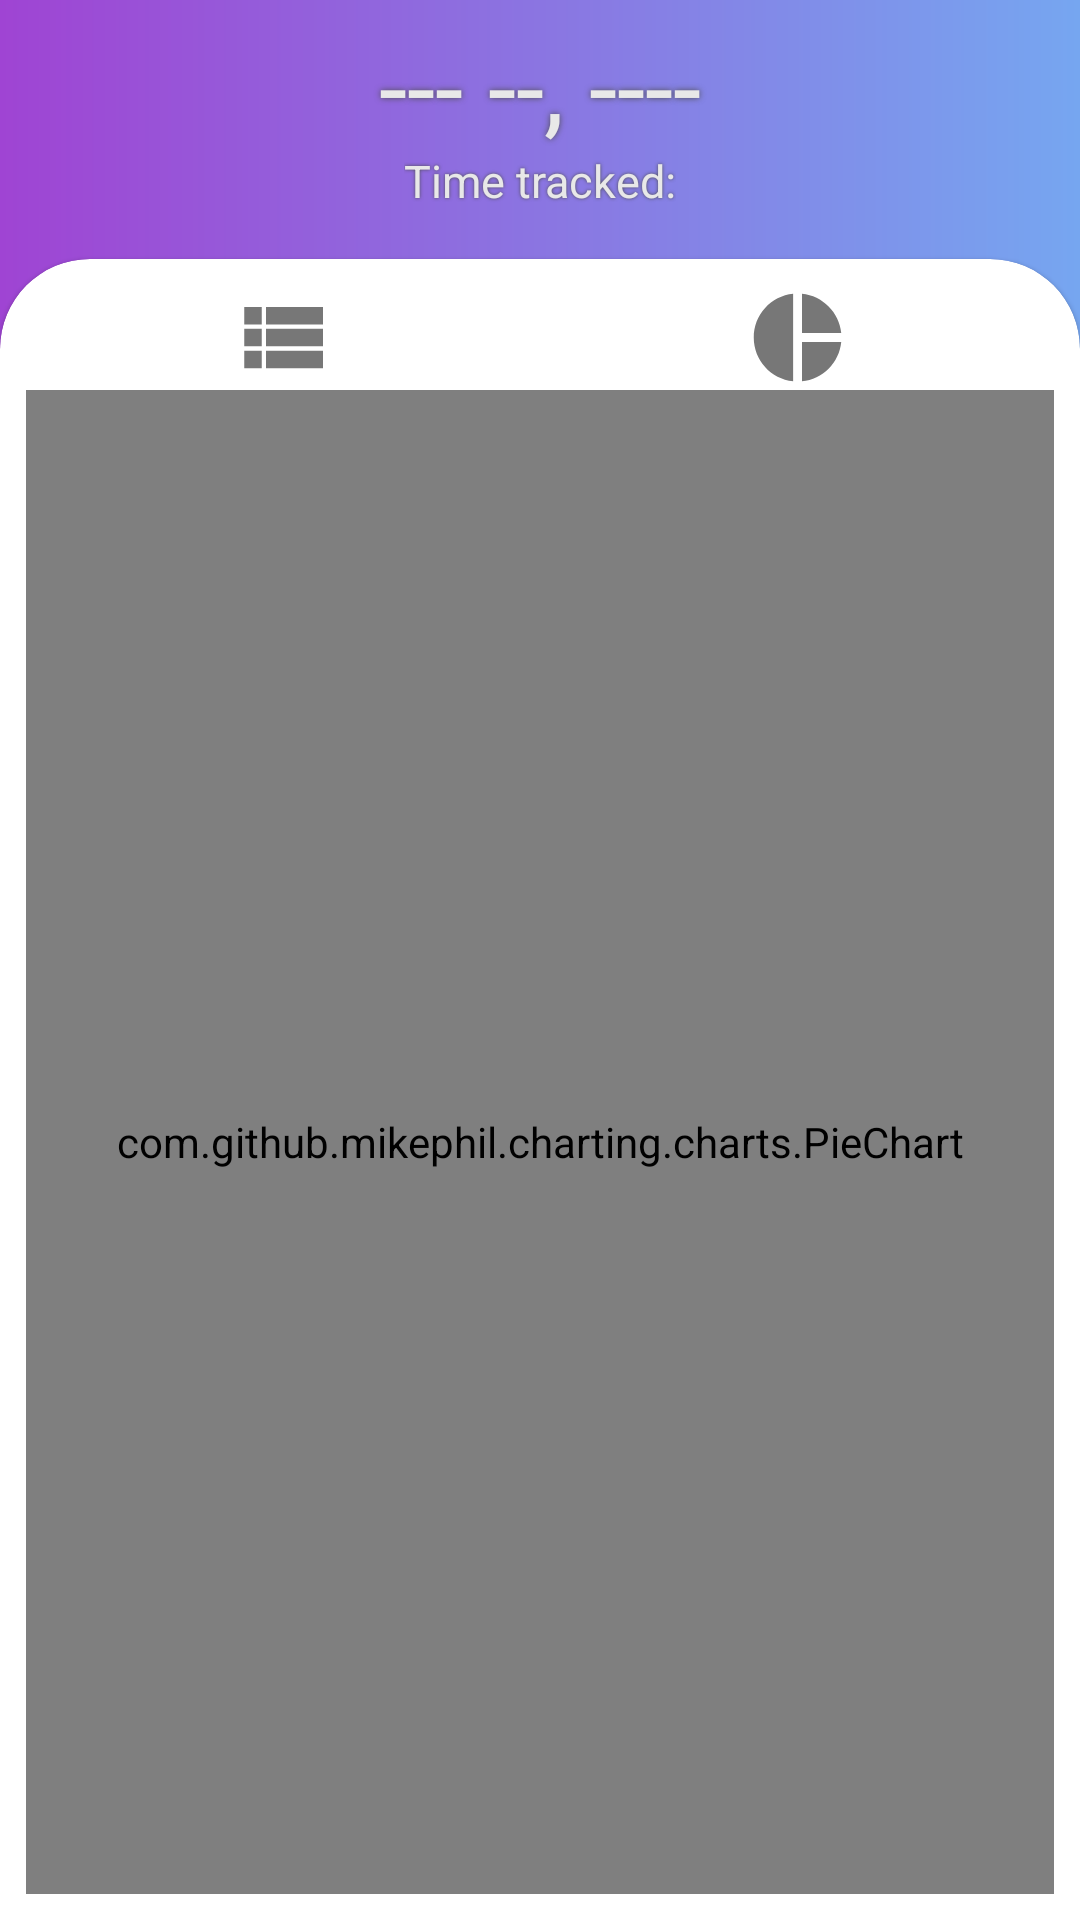

Screen size 1080 x 1920. Icon name, then its box in pixels as (x1, y1, x2, y2):
list: (244, 307, 323, 369)
